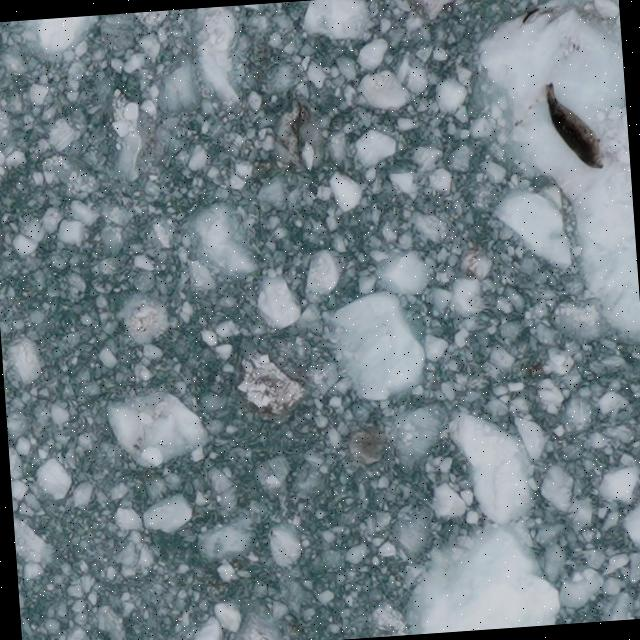seal: (539, 74, 608, 177)
